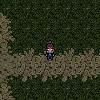Victim: (44, 40, 55, 61)
